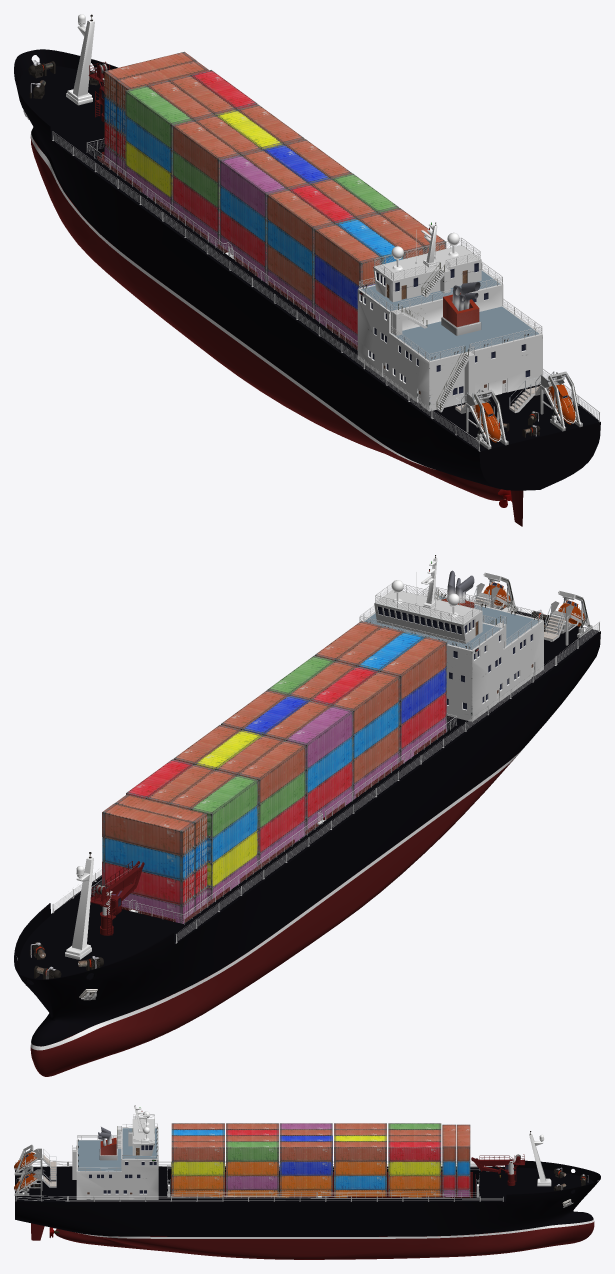
File: ship.glb
The picture shows the model from 3 angles, top to bottom: view 1: azimuth 30°, elevation 25°; view 2: azimuth 150°, elevation 25°; view 3: azimuth 270°, elevation 25°; orthographic projection. The views are drawn at different scales.
Visible parts, largest first — view 1: center; view 2: center; view 3: center.
Boxes of the visible parts, x1,y1,x2,y2 form: center: [14, 14, 600, 526]; center: [14, 555, 600, 1076]; center: [14, 1105, 600, 1259].
Bounding box in the file's own units: 18.99 × 34.48 × 131.
Materials: 49 (38 with a texture image).
